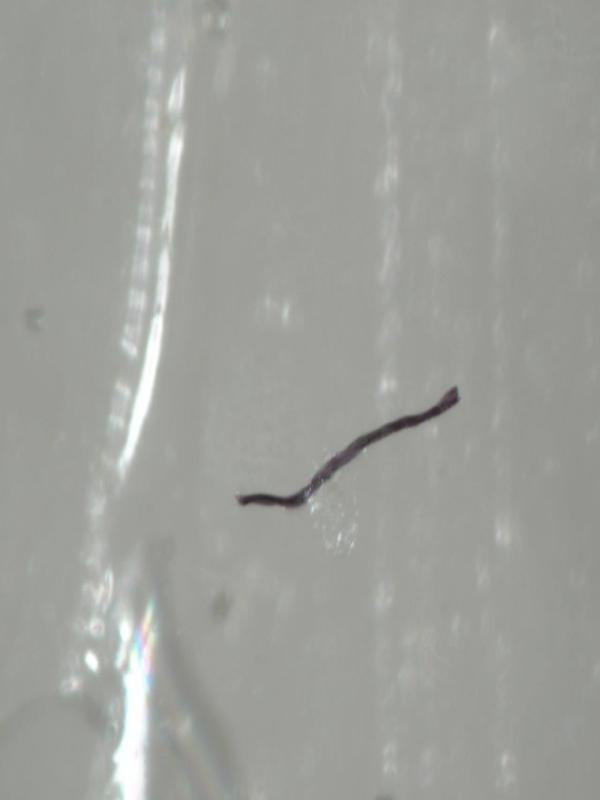microplastic: (235, 382, 461, 511)
